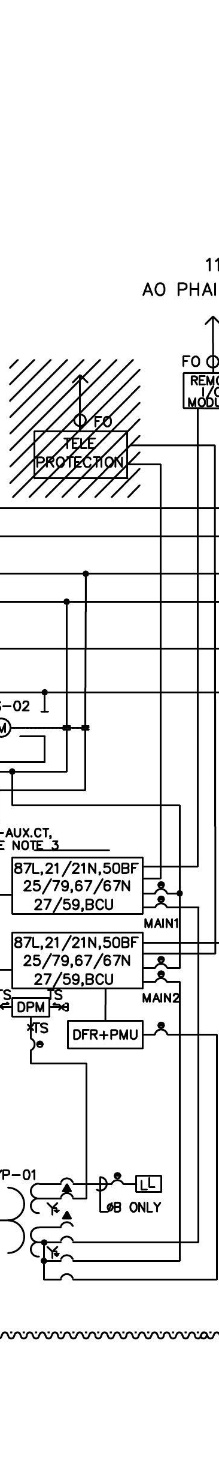DPM: (10, 996, 51, 1018)
LL: (134, 1174, 163, 1194)
tele_protection: (32, 429, 130, 481)
